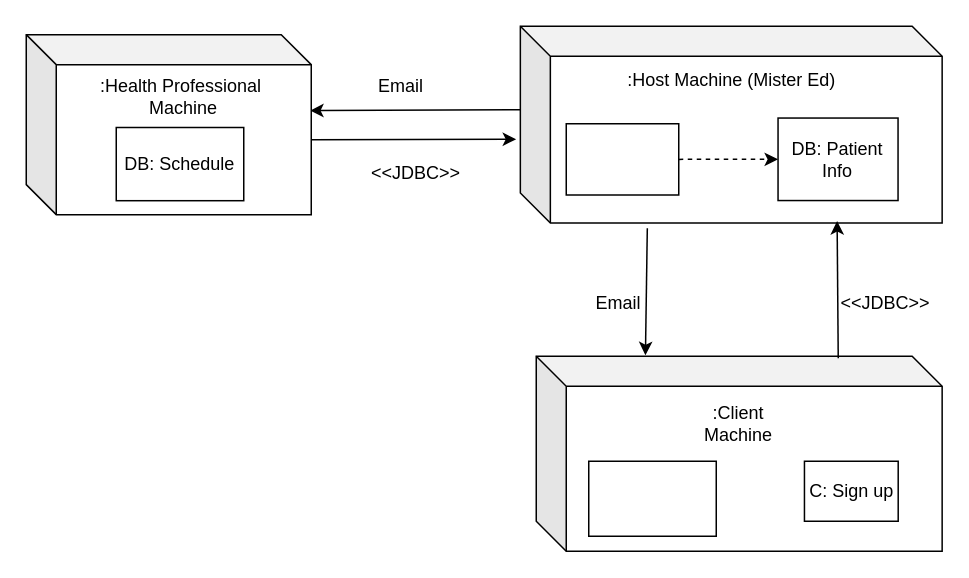
Some shapes in this 969 by 578 pixel diagram are drawn without their labels. Each missing label, with the centre of its shape:
C: Triage: pixel 622 158
C: Triage Request: pixel 651 498
